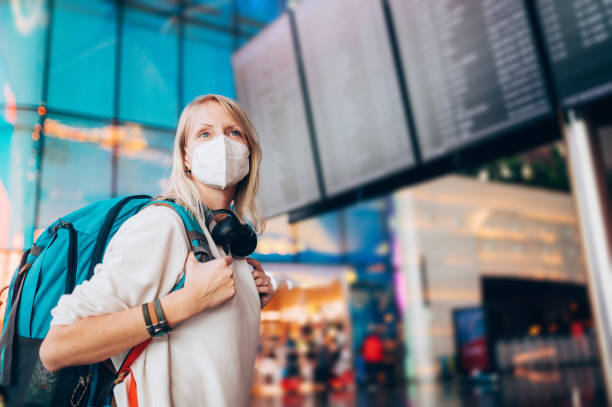with mask: (171, 89, 262, 198)
